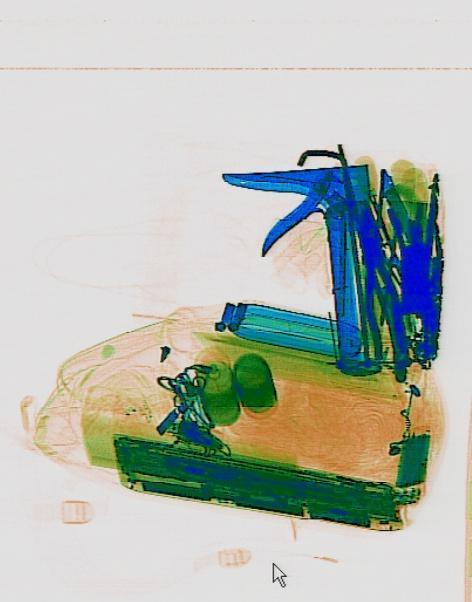Knife: (218, 159, 383, 385)
Pliers: (346, 201, 410, 363)
